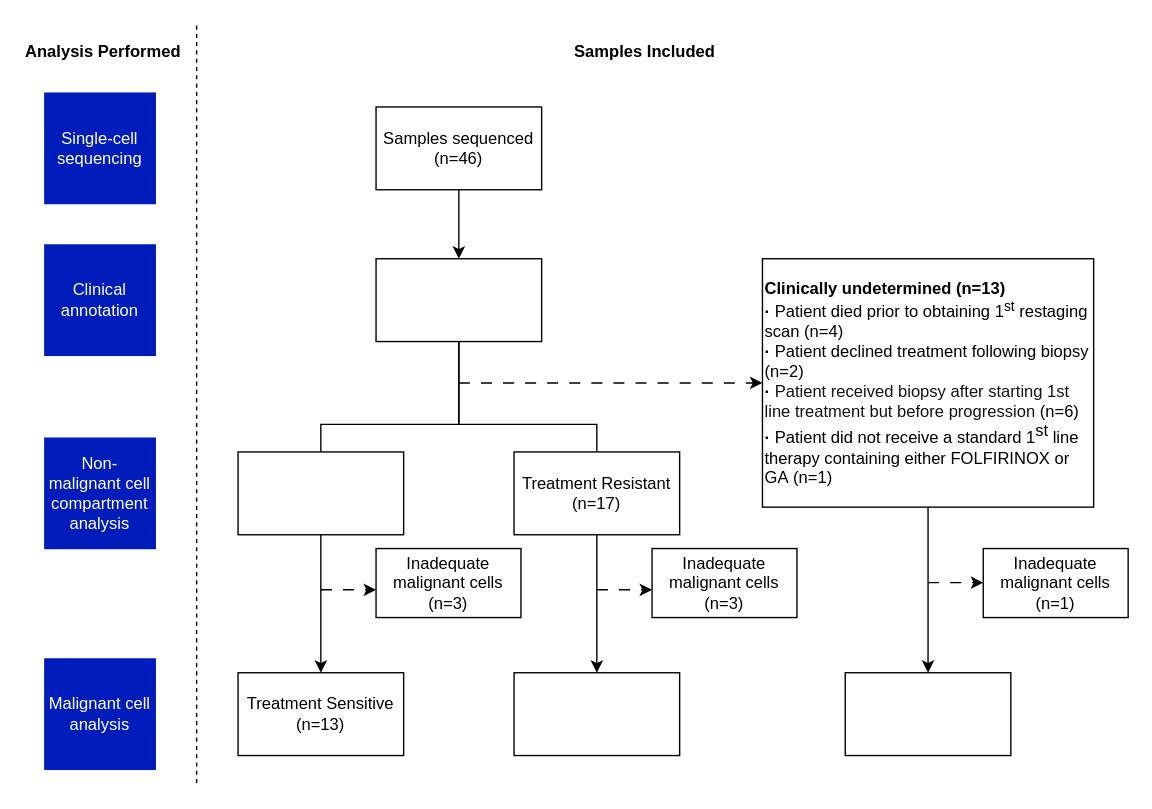
Image size: 1152x809. Some labels were removed from this diagram. The shapes that lost their labels are listed below. From the top down, each one's box as (x1, y1, x2, y2) in pixels, then its label:
(375, 257, 542, 342): Clinical Annotation (n=46)
(237, 451, 404, 535): Treatment Sensitive (n=16)
(513, 671, 680, 756): Treatment Resistant (n=14)
(844, 671, 1011, 756): Clinically undetermined (n=12)
